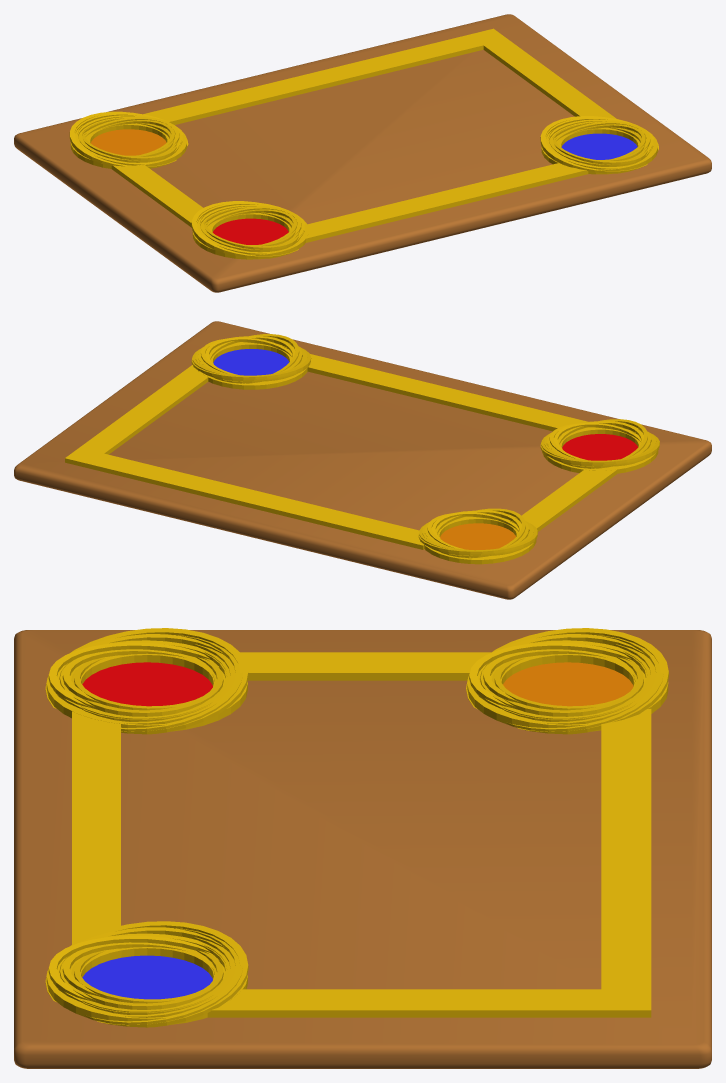
File: card.fbx
3 renders of one model, top to bottom at view 1: azimuth 30°, elevation 25°; view 2: azimuth 150°, elevation 25°; view 3: azimuth 270°, elevation 25°, orthographic. The views are drawn at different scales.
Visible parts, largest first — view 1: Cube, Bordure.004, Circle.001, Circle, Circle.002, Bordure.001, Bordure.003; view 2: Cube, Bordure.004, Circle.002, Circle, Circle.001, Bordure.001, Bordure.003; view 3: Cube, Bordure.004, Circle, Circle.002, Circle.001, Bordure.001, Bordure.003.
Boxes of the visible parts, bbox=[...] form: Cube: bbox=[14, 14, 711, 292]; Bordure.004: bbox=[143, 28, 616, 124]; Circle.001: bbox=[191, 201, 309, 259]; Circle: bbox=[540, 116, 658, 174]; Circle.002: bbox=[69, 111, 188, 168]; Bordure.001: bbox=[306, 163, 588, 242]; Bordure.003: bbox=[111, 165, 202, 227]; Cube: bbox=[14, 321, 711, 599]; Bordure.004: bbox=[65, 365, 424, 549]; Circle.002: bbox=[418, 508, 537, 564]; Circle: bbox=[191, 334, 311, 389]; Circle.001: bbox=[540, 419, 659, 473]; Bordure.001: bbox=[307, 354, 588, 431]; Bordure.003: bbox=[521, 469, 617, 531]; Cube: bbox=[14, 630, 711, 1068]; Bordure.004: bbox=[207, 709, 651, 1017]; Circle: bbox=[45, 921, 248, 1027]; Circle.002: bbox=[466, 628, 669, 734]; Circle.001: bbox=[45, 628, 248, 734]; Bordure.001: bbox=[72, 711, 120, 944]; Bordure.003: bbox=[240, 652, 490, 680].
Size of the model in its own units: 285 by 14.57 by 200.
